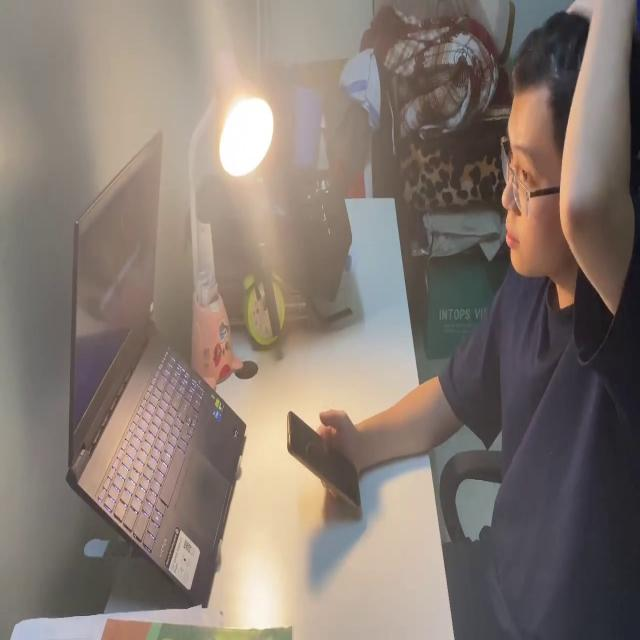book: (2, 597, 294, 640)
laptop: (62, 120, 249, 611)
phone: (285, 406, 369, 527)
student: (311, 0, 640, 640)
